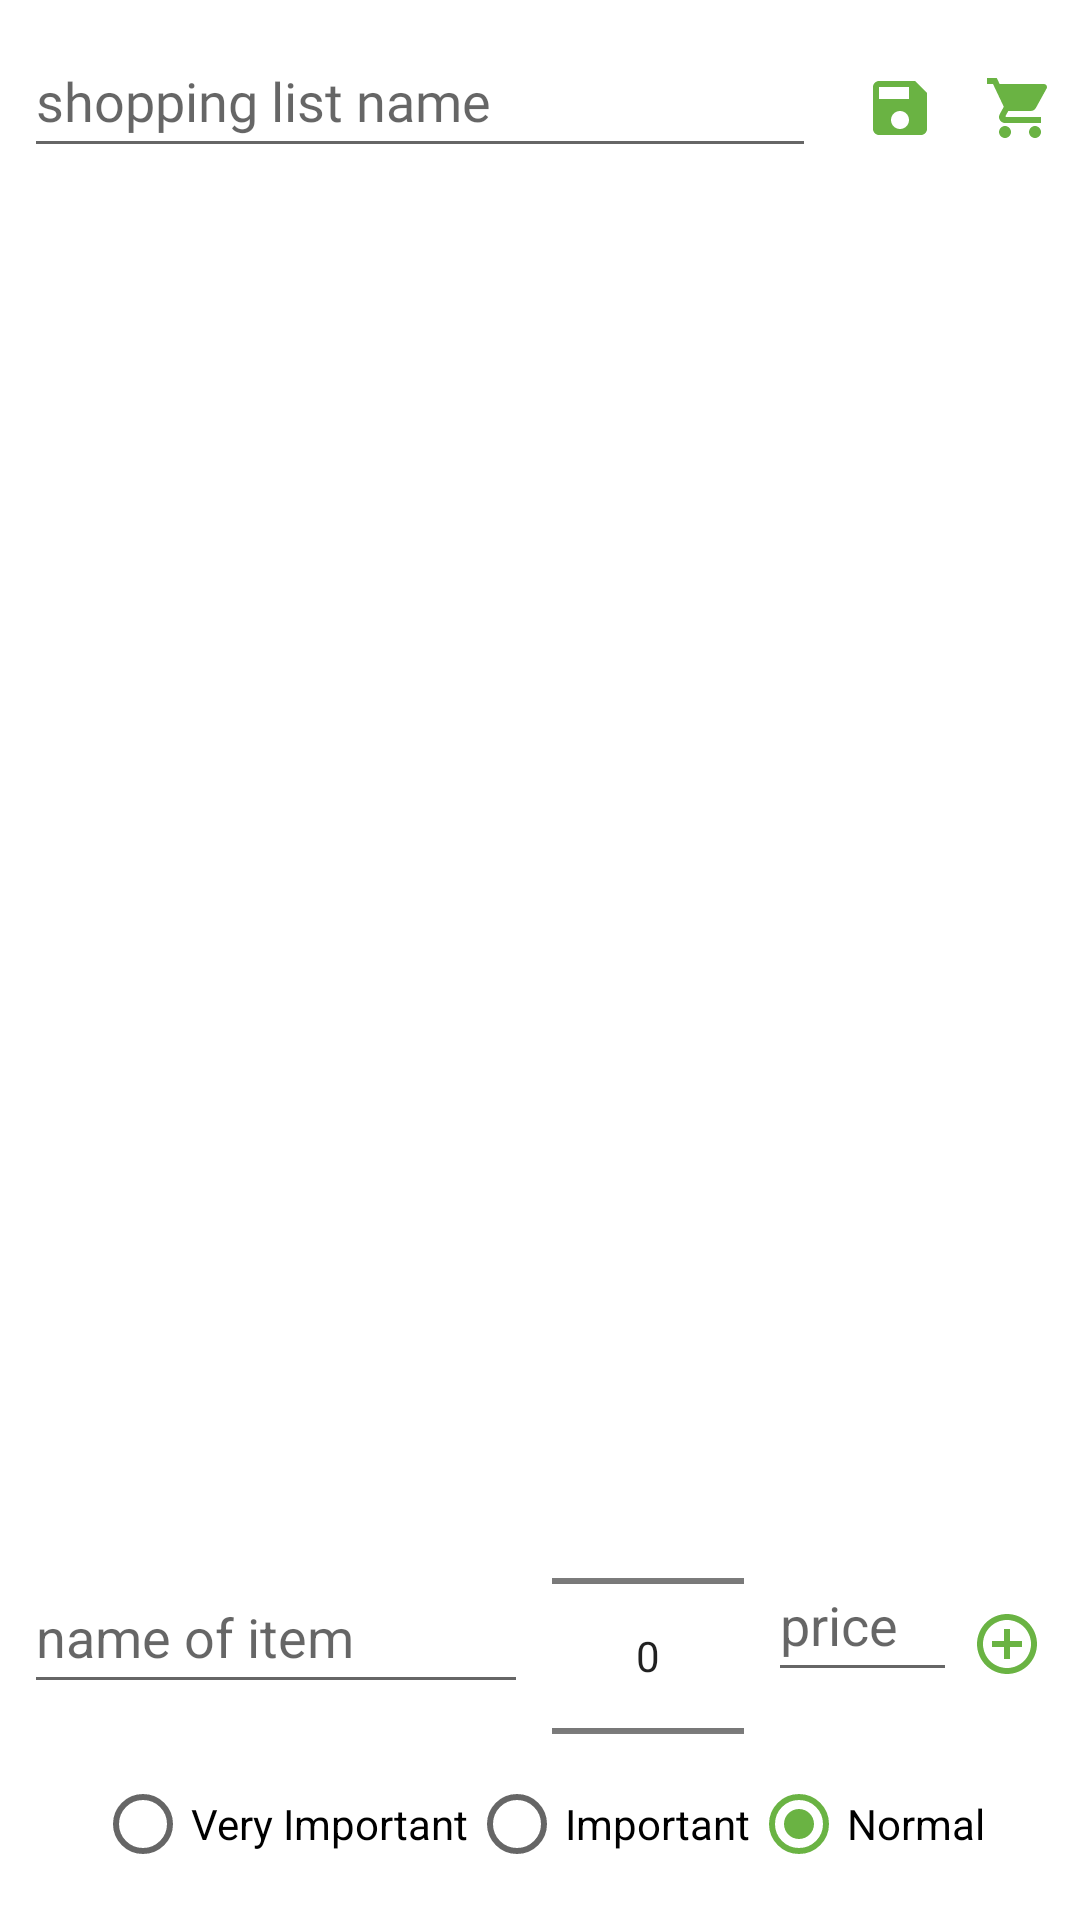

Icons on this 1080px×1920px Android screen, each with its box as region(x1, y1, x2, y2):
Add Item: region(977, 1614, 1037, 1674)
Save List: region(873, 81, 927, 135)
